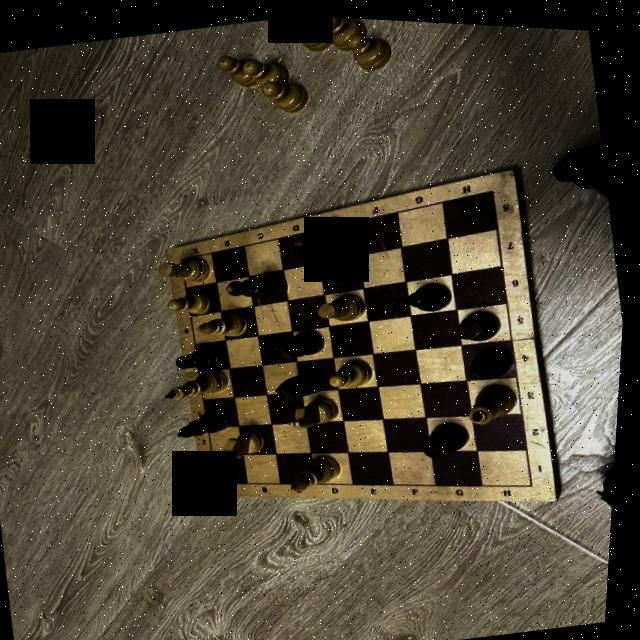chess-table-corners: (490, 179, 500, 189), (533, 473, 542, 482), (218, 476, 226, 483), (180, 254, 188, 258)
